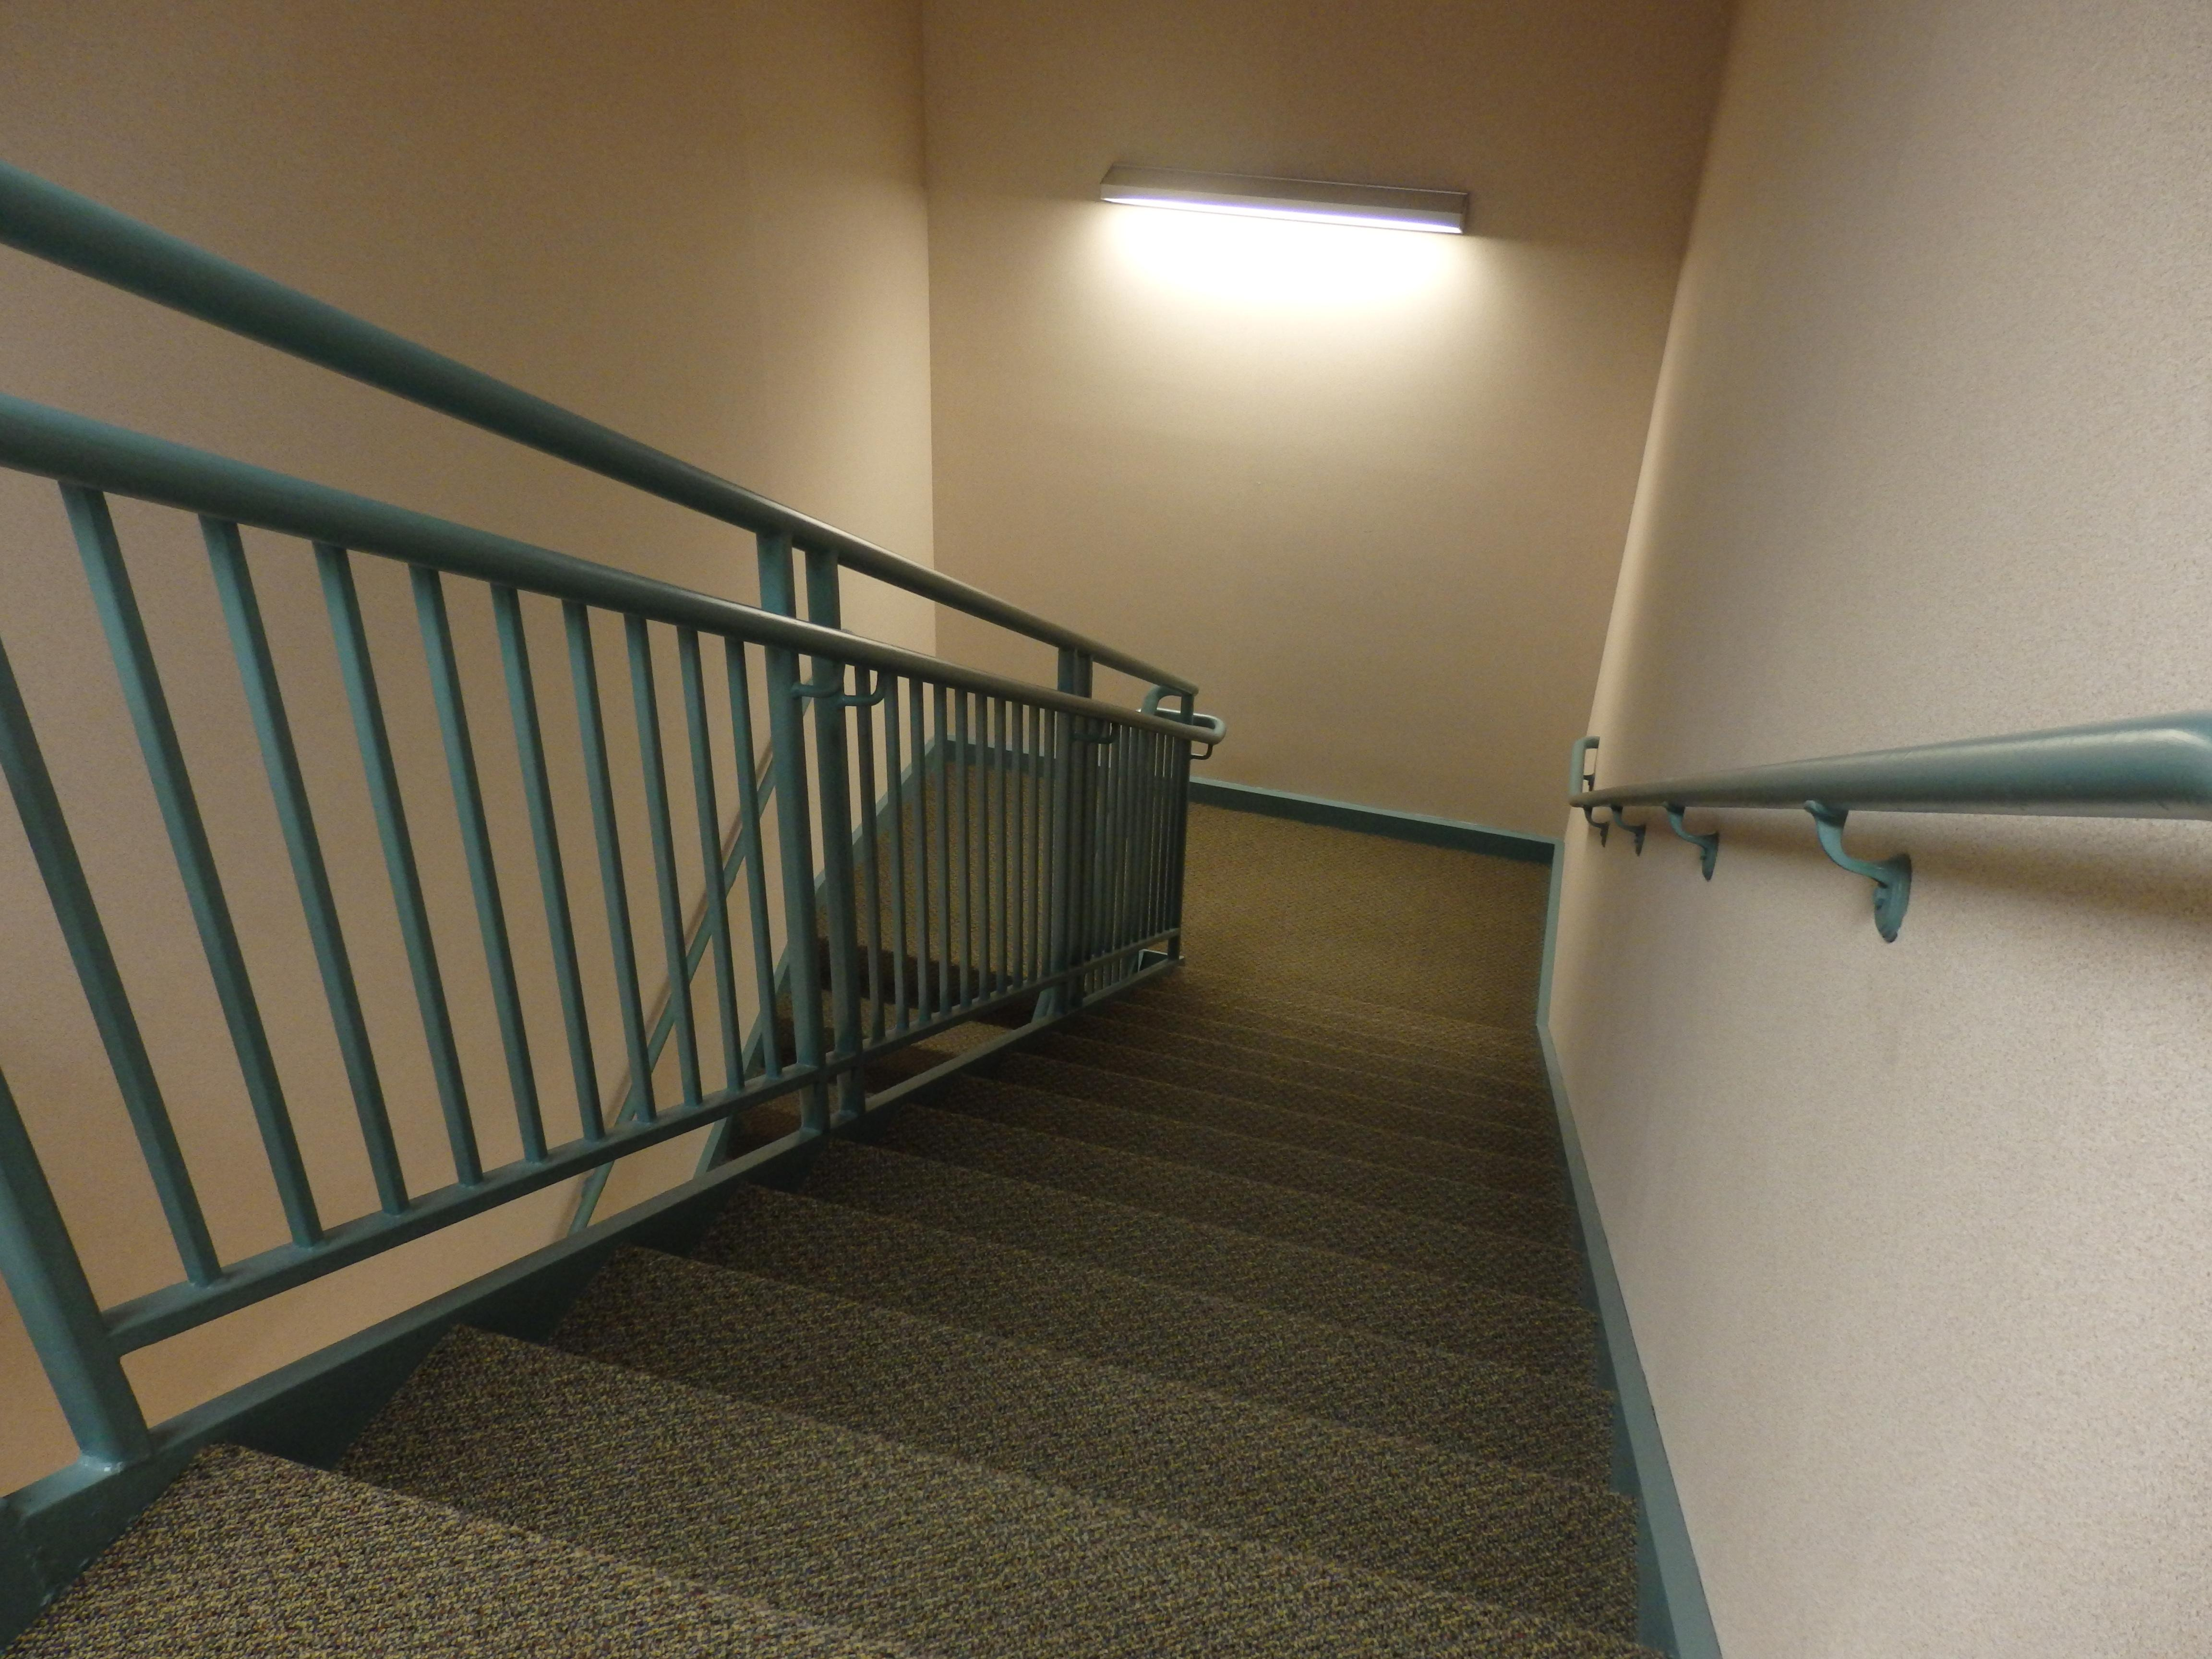stairs_down: (982, 931, 1578, 1640)
